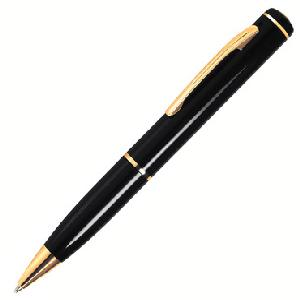pen: (12, 1, 299, 294)
